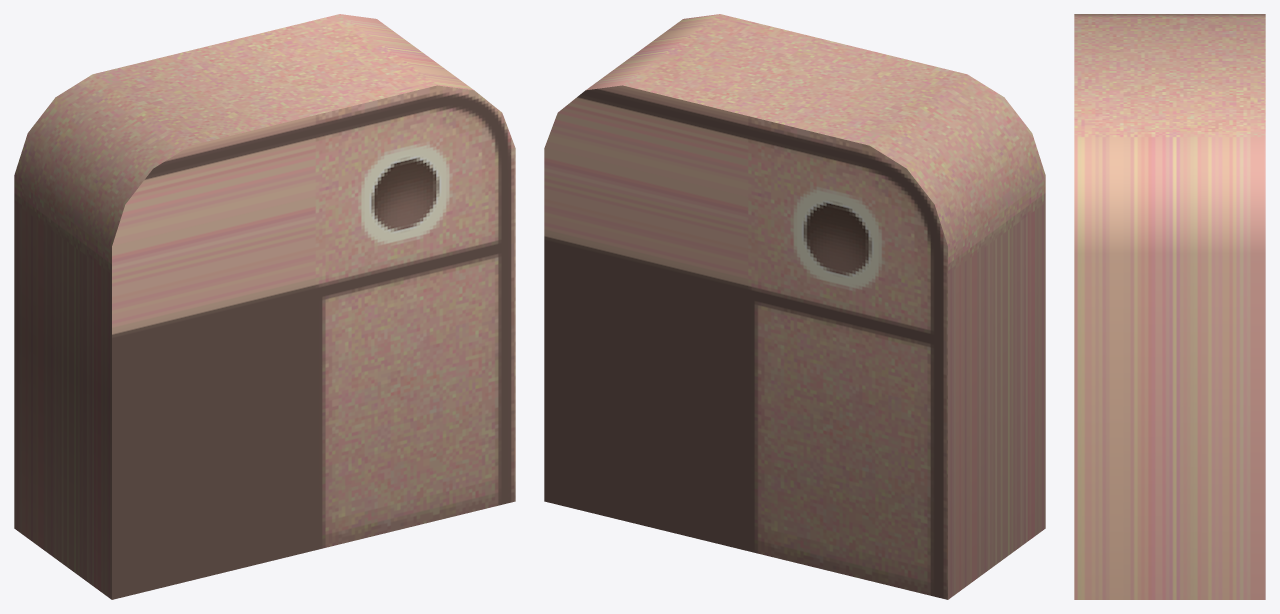
Rendered from Trash_Can_LOD0.fbx.
3 views of the same model, side by side, from view 1: azimuth 30°, elevation 25°; view 2: azimuth 150°, elevation 25°; view 3: azimuth 270°, elevation 25° (orthographic). The views are drawn at different scales.
Parts seen in each view (by area): view 1: Trash_Can; view 2: Trash_Can; view 3: Trash_Can.
Boxes of the visible parts, bbox=[...] form: Trash_Can: bbox=[14, 14, 515, 599]; Trash_Can: bbox=[544, 14, 1045, 599]; Trash_Can: bbox=[1074, 14, 1265, 599].
Bounding box in the file's own units: 116 × 120 × 48.6.
